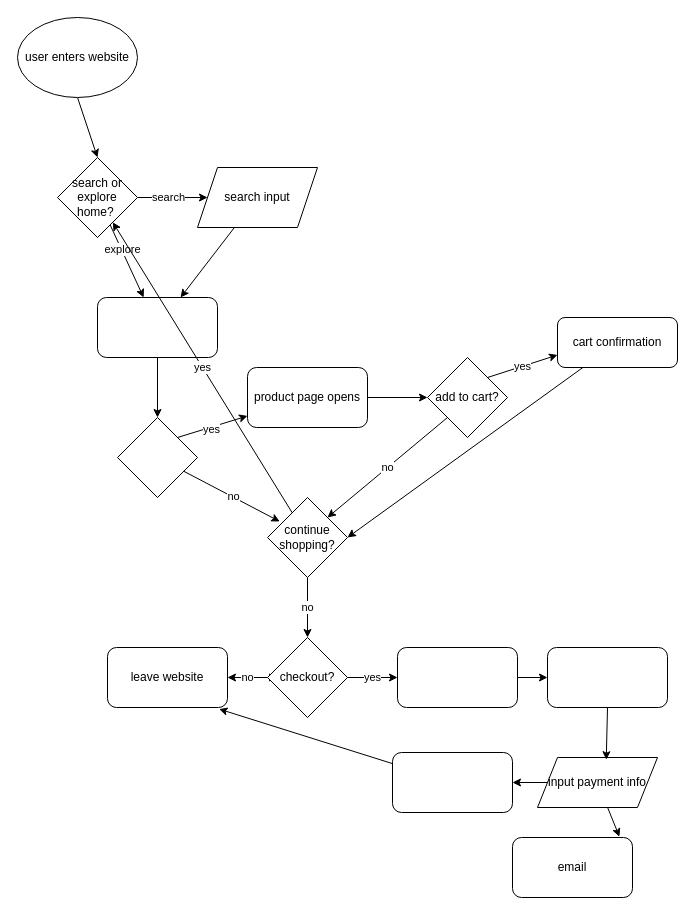
This 695x915 diagram has some shape labels left out. Here are the shapes that lost their labels. From the top down, the centre of each, then its label:
At point (157, 327): "view products".
At point (157, 457): "view specfic product?".
At point (457, 677): "view cart screen".
At point (607, 677): "view payment screen".
At point (452, 782): "confirmation screen".
